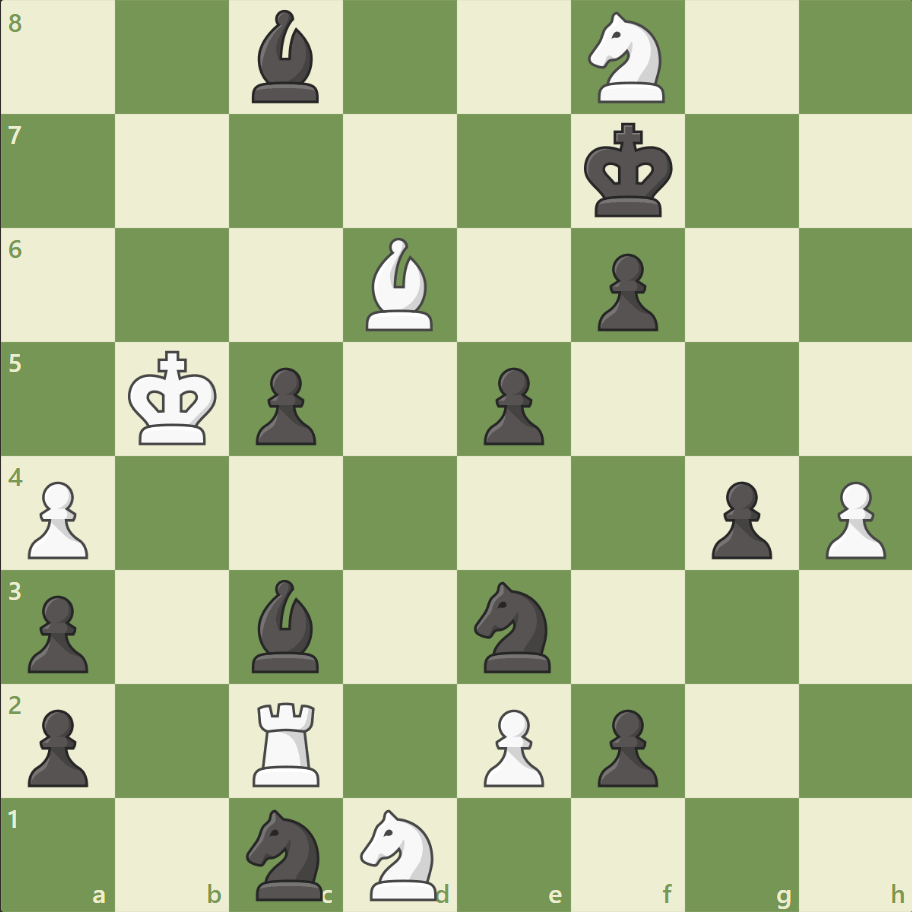B: (358, 233, 442, 336)
K: (124, 344, 224, 452)
N: (351, 802, 449, 904), (579, 7, 676, 110)
P: (20, 473, 95, 564), (474, 700, 549, 791), (815, 473, 889, 564)
R: (246, 693, 329, 790)
b: (244, 6, 328, 109), (244, 574, 328, 676)
k: (579, 117, 679, 225)
n: (465, 575, 562, 677), (238, 802, 335, 904)
p: (247, 359, 322, 450), (474, 359, 549, 450), (701, 473, 776, 564), (20, 586, 95, 677), (20, 700, 95, 791), (588, 246, 662, 337), (588, 700, 662, 791)
